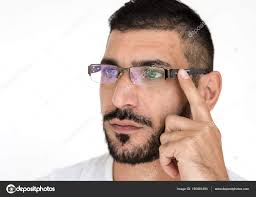middle_eastern_male: (94, 13, 198, 151)
